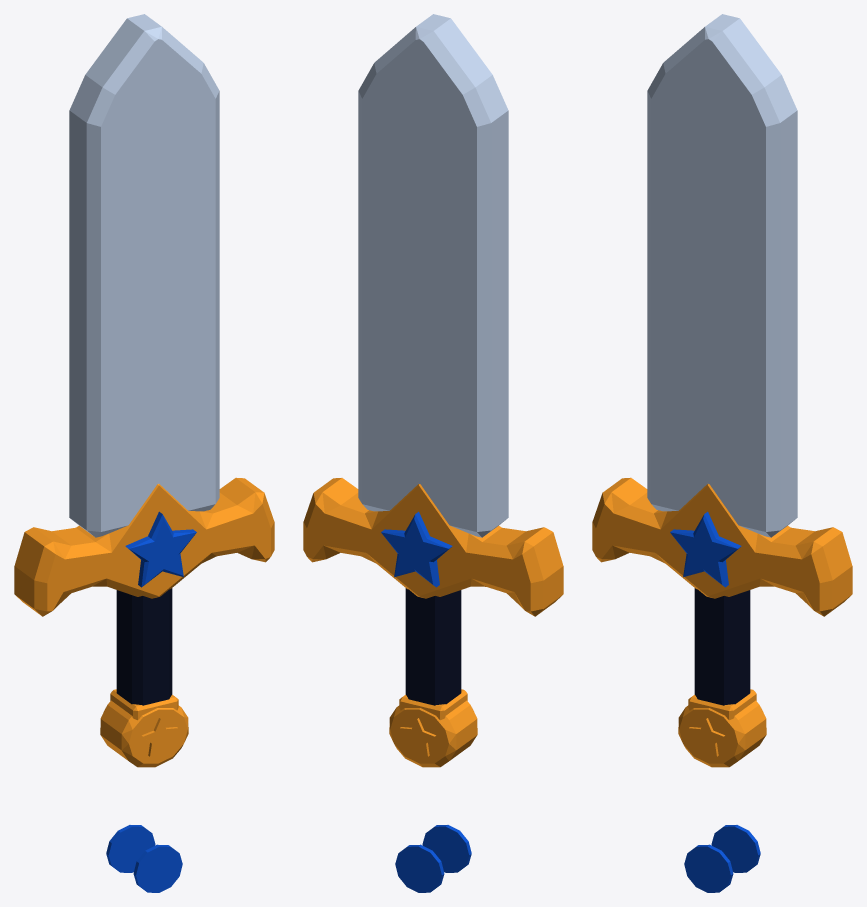
The model's file is BE_PowerMesh_HeldMasterSword.fbx.
3 renders of one model, left to right at view 1: azimuth 30°, elevation 25°; view 2: azimuth 150°, elevation 25°; view 3: azimuth 330°, elevation 25°, orthographic.
Parts seen in each view (by area): view 1: BE_PowerMesh_HeldMasterSword; view 2: BE_PowerMesh_HeldMasterSword; view 3: BE_PowerMesh_HeldMasterSword.
Boxes of the visible parts, bbox=[...] form: BE_PowerMesh_HeldMasterSword: bbox=[14, 14, 274, 892]; BE_PowerMesh_HeldMasterSword: bbox=[303, 14, 563, 892]; BE_PowerMesh_HeldMasterSword: bbox=[592, 14, 852, 892].
Bounding box in the file's own units: 190 × 649 × 53.1.
1 material, 1 textured.
